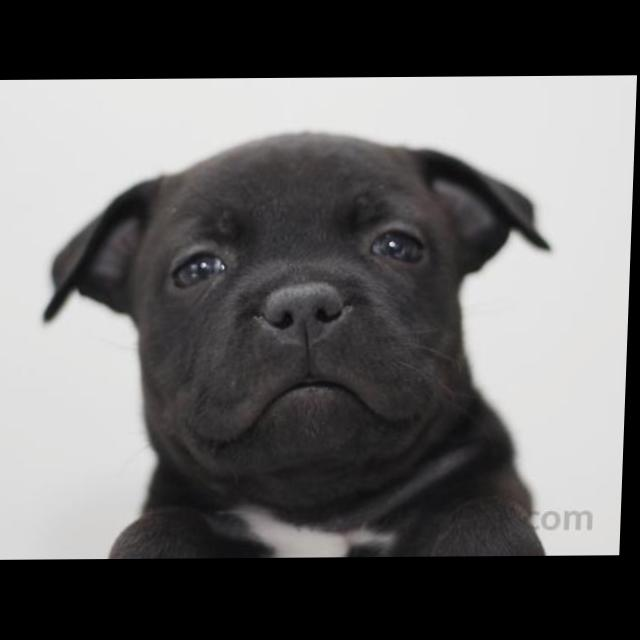staffford: (37, 128, 577, 559)
